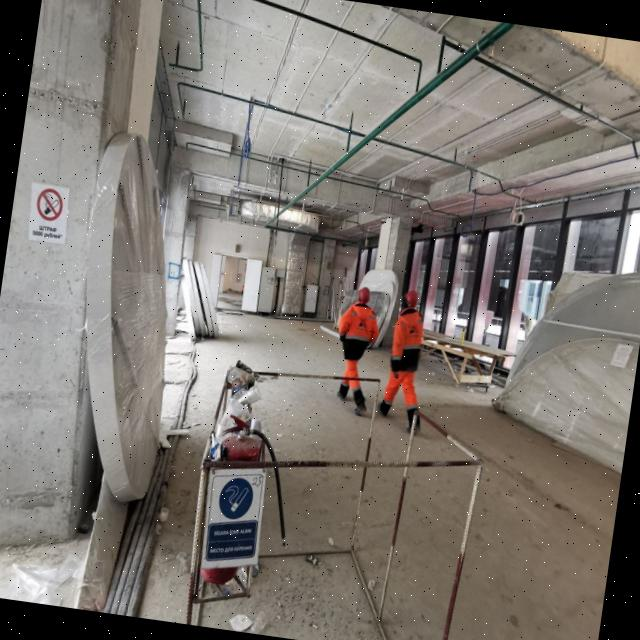Helmet: (404, 290, 421, 313), (357, 286, 373, 307)
Jacket: (343, 303, 378, 367), (394, 308, 427, 375)
